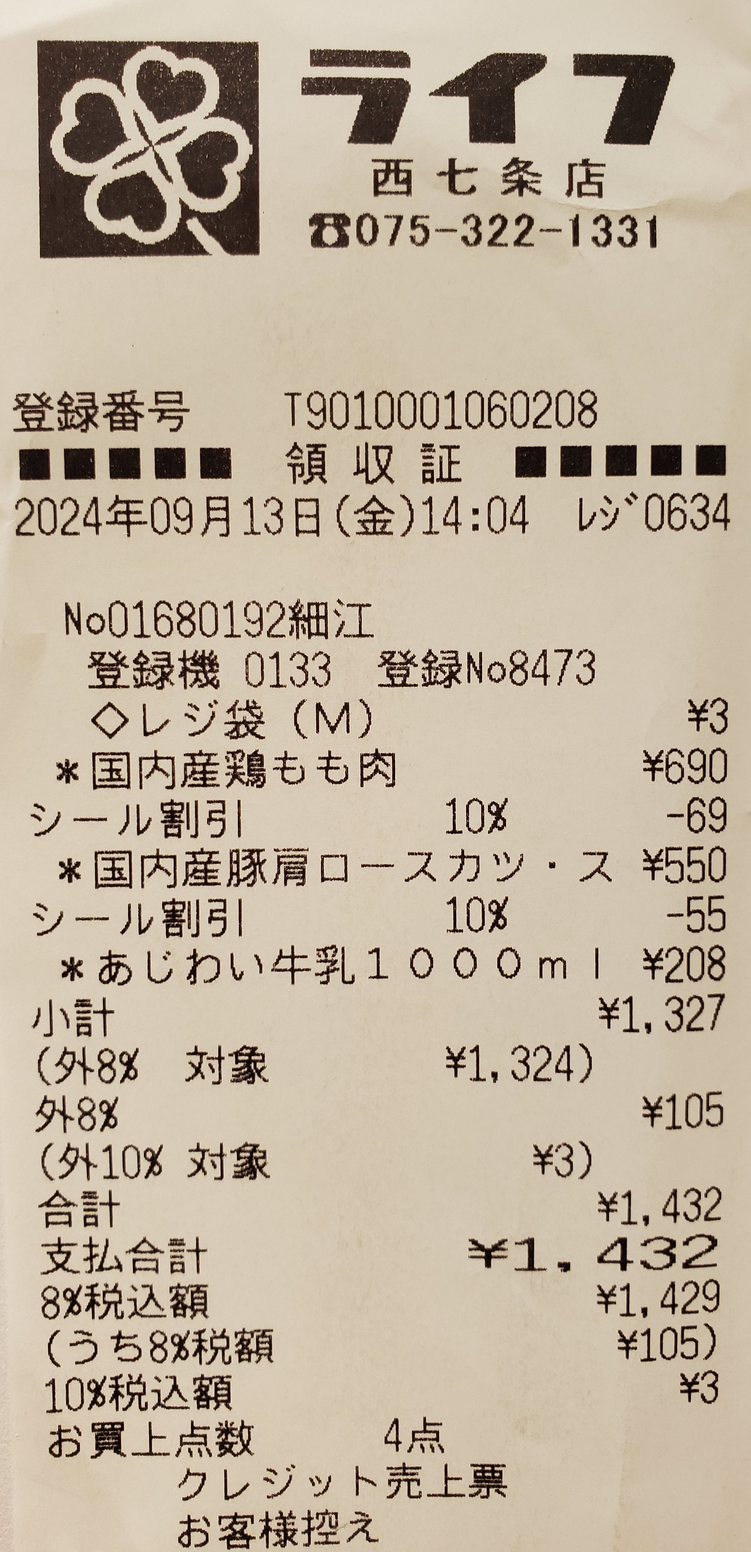Date: (8, 488, 333, 548)
Shopname: (294, 15, 713, 154)
Telnum: (351, 202, 677, 267)
Totalpay: (31, 1227, 736, 1282)
